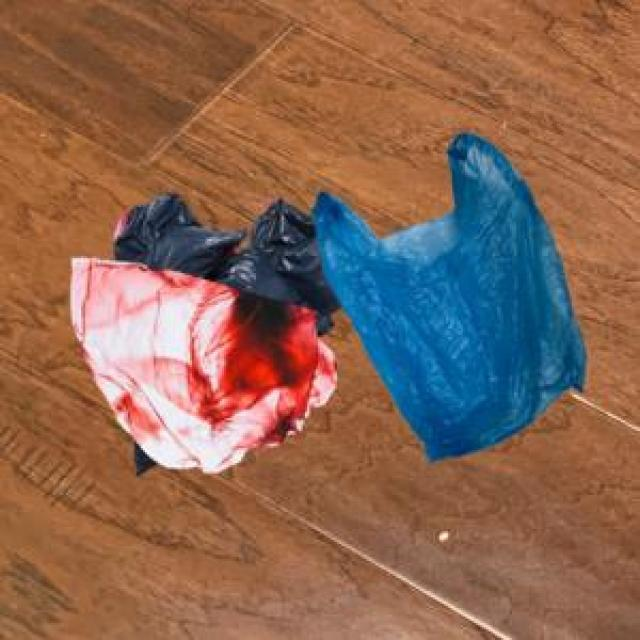miscellaneous trash: (109, 190, 339, 472)
